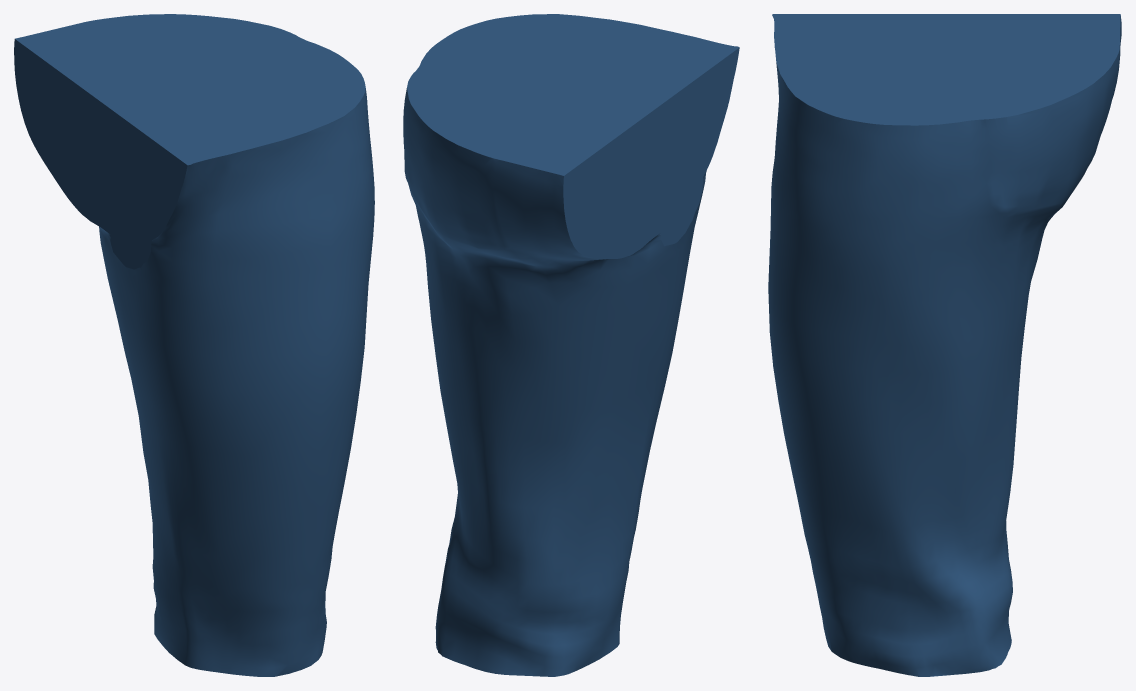
Rendered from thigh_l.fbx.
3 renders of one model, left to right at view 1: azimuth 30°, elevation 25°; view 2: azimuth 150°, elevation 25°; view 3: azimuth 270°, elevation 25°, orthographic.
Parts seen in each view (by area): view 1: thigh_l.006; view 2: thigh_l.006; view 3: thigh_l.006.
Boxes of the visible parts, x1,y1,x2,y2 form: thigh_l.006: [14, 14, 374, 676]; thigh_l.006: [403, 14, 739, 676]; thigh_l.006: [768, 14, 1121, 676].
Bounding box in the file's own units: 0.4 × 0.2277 × 0.1746.
